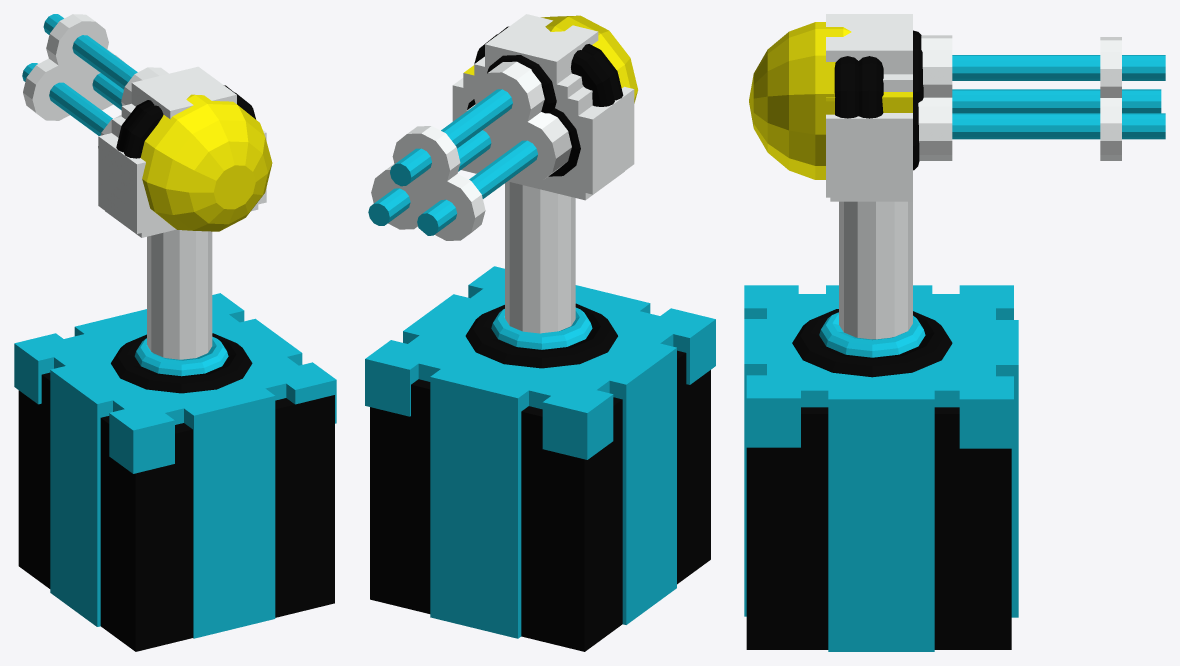
Rendered from Turret 1.fbx.
3 views of the same model, side by side, from view 1: azimuth 30°, elevation 25°; view 2: azimuth 150°, elevation 25°; view 3: azimuth 270°, elevation 25° (orthographic). The views are drawn at different scales.
Visible parts, largest first — view 1: model.001, model, model.002; view 2: model.001, model, model.002; view 3: model.001, model, model.002.
Boxes of the visible parts, bbox=[...] form: model.001: bbox=[14, 293, 336, 651]; model: bbox=[98, 66, 272, 393]; model.002: bbox=[22, 14, 168, 148]; model.001: bbox=[365, 266, 715, 651]; model: bbox=[452, 14, 637, 368]; model.002: bbox=[368, 61, 571, 240]; model.001: bbox=[744, 285, 1018, 651]; model: bbox=[749, 14, 952, 377]; model.002: bbox=[918, 35, 1165, 160].
Bounding box in the file's own units: 61.92 × 144 × 96.75.
